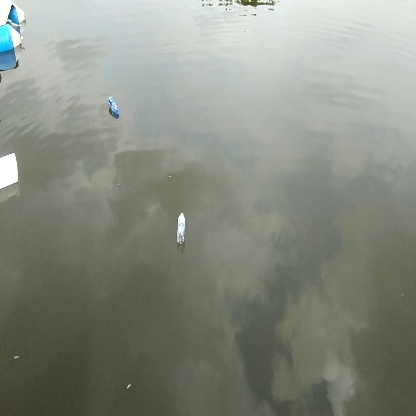bottle: (174, 209, 188, 248), (105, 93, 123, 122)
